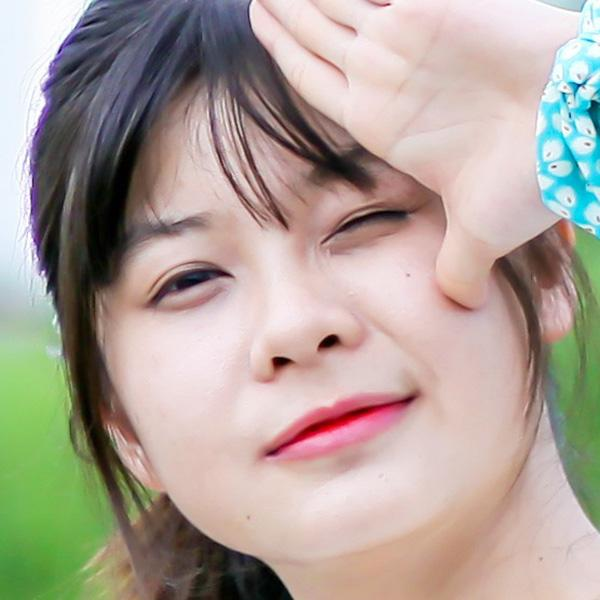Eyes: (134, 251, 242, 317), (318, 192, 426, 256)
